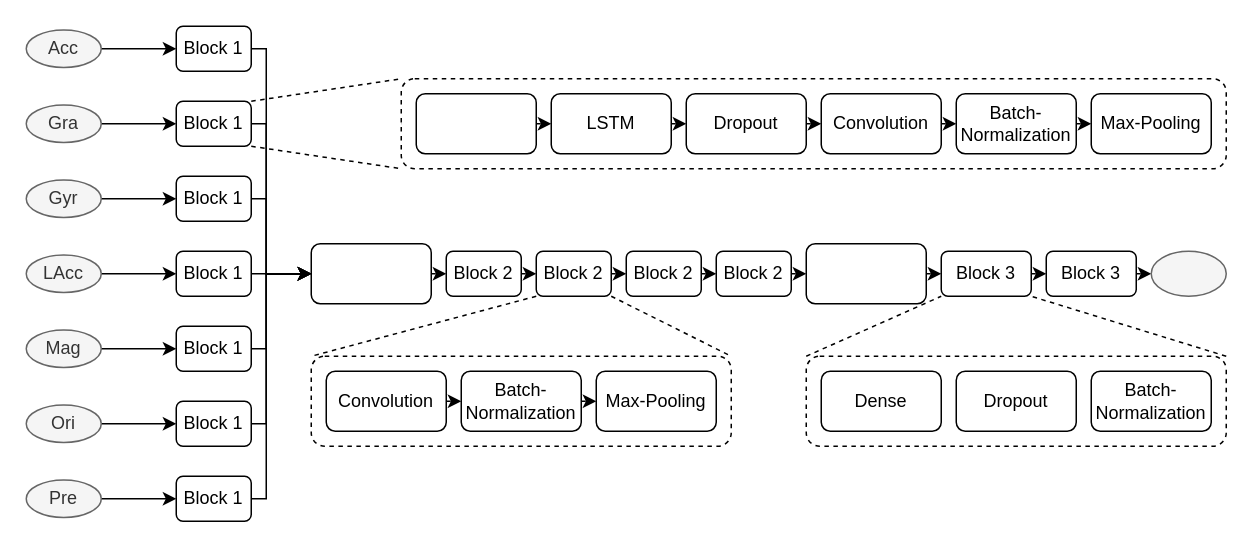
The diagram is 1254 pixels wide and 548 high, and some of its shapes have lost their labels. The shapes that lost their labels are listed below. From the top down, each one's box as (x1, y1, x2, y2) in pixels, then its label:
(415, 92, 536, 154): Aug
(310, 242, 431, 304): Concat
(805, 242, 926, 304): Flatten
(1150, 250, 1226, 296): Output
